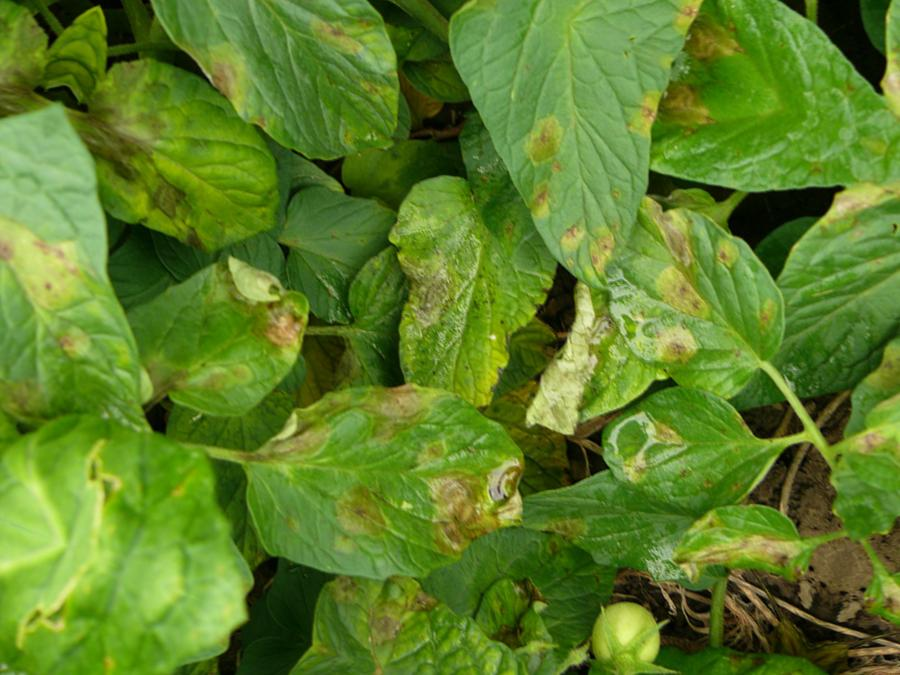Tomato leaf late blight: (300, 0, 720, 346), (212, 317, 557, 649), (345, 136, 621, 451), (22, 21, 330, 292), (549, 167, 838, 434), (87, 192, 349, 480), (91, 0, 458, 203), (579, 348, 812, 551), (647, 466, 832, 636)
